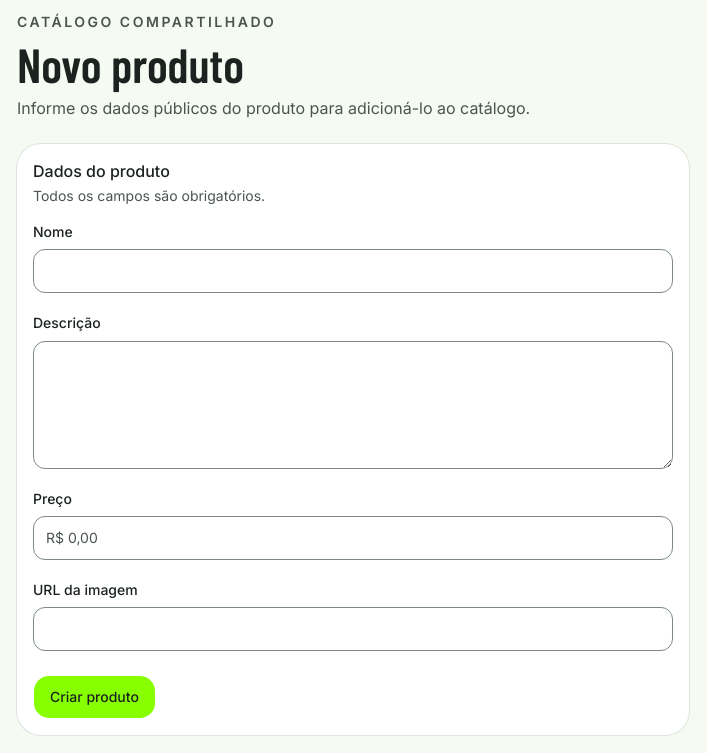
ProductCreationScreen › formata o preço em Real e não mantém letras no campo
Type "abc9990xyz" into the field labelled "Preço" at (353, 538), box [33, 516, 673, 560]
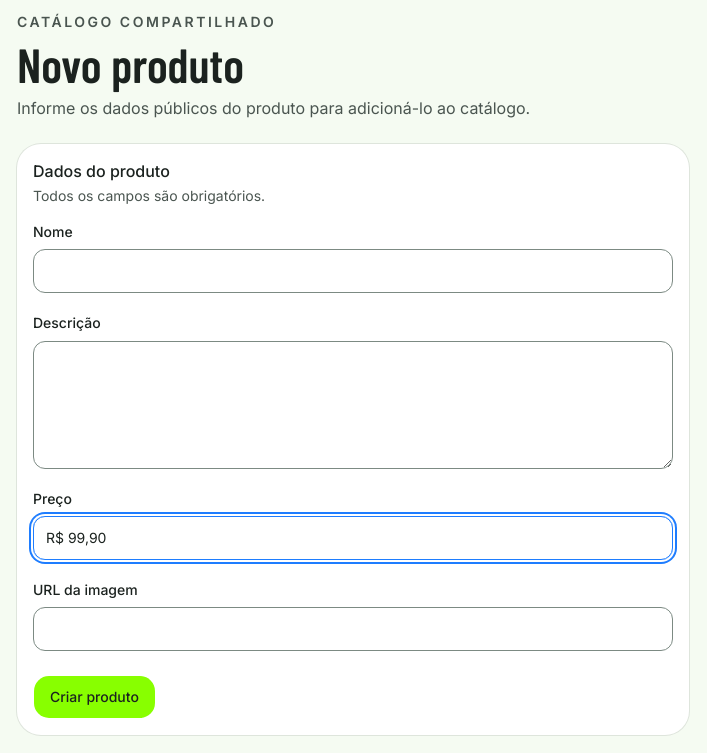
Now the field labelled "Preço" holds "R$ 99,90", box [33, 516, 673, 560]
